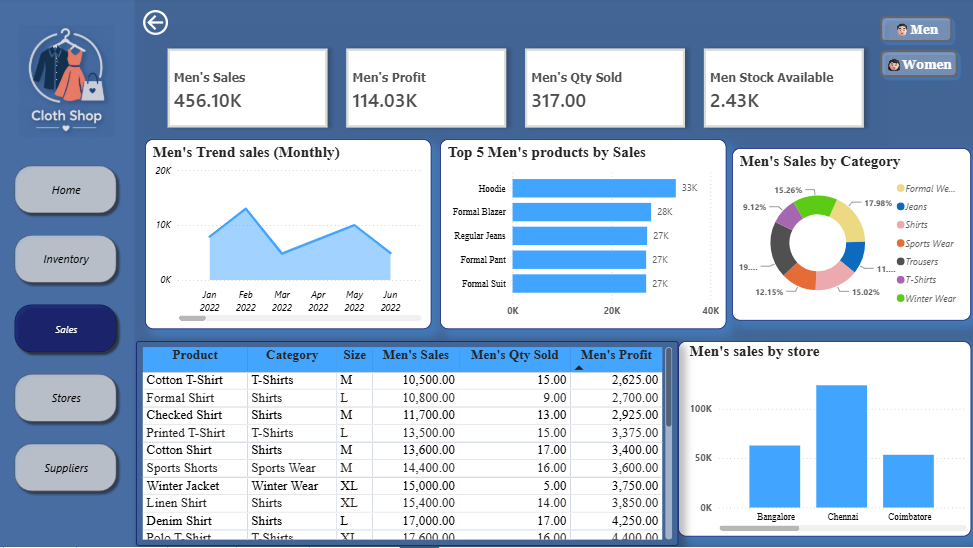

Layout of this report page (visuals, bound fields, positions):
{"tool":"powerbi","page":{"name":"Sales","canvas":[1280,720],"ordinal":2},"visuals":[{"type":"shape","box":[0,0,179.4,719.5],"z":0},{"type":"pageNavigator","title":"Page navigation","box":[14,213,148,443],"z":1000},{"type":"actionButton","title":"Women","box":[1149.1,64.8,112.3,46.1],"z":8000},{"type":"actionButton","title":"Men","box":[1149.1,20.2,105.1,44.6],"z":9000},{"type":"actionButton","box":[180,11.5,54.7,43.2],"z":11000},{"type":"cardVisual","fields":{"Data":["INVENTORY_SALES.Women's Sales","INVENTORY_SALES.Women's Profit","INVENTORY_SALES.Women's Qty Sold","INVENTORY_SALES.Women Stock Available"]},"box":[161.3,28.8,986.4,172.8],"z":19000},{"type":"lineChart","title":"Women''s Trend sales (Monthly)","fields":{"Category":["DATES.Month Year"],"Y":["INVENTORY_SALES.Women's Sales"]},"box":[192,184.6,375.1,250],"z":20000},{"type":"clusteredBarChart","title":"Top 5  Women''s products by Sales","fields":{"Category":["PRODUCTS.PRODUCT_NAME"],"Y":["INVENTORY_SALES.Women's Sales"]},"box":[579,186,375.1,248.6],"z":21000},{"type":"donutChart","title":"Women''s Sales by Category","fields":{"Category":["PRODUCTS.CATEGORY"],"Y":["INVENTORY_SALES.Women's Sales"]},"box":[961.5,196.5,312.6,226.2],"z":22000},{"type":"clusteredColumnChart","title":"Women''s sales by store","fields":{"Category":["STORES.CITY"],"Y":["INVENTORY_SALES.Women's Sales"]},"box":[892,456,384.7,257.1],"z":23000},{"type":"tableEx","fields":{"Values":["PRODUCTS.PRODUCT_NAME","PRODUCTS.CATEGORY","PRODUCTS.SIZE","INVENTORY_SALES.Women's Sales","INVENTORY_SALES.Women's Qty Sold","INVENTORY_SALES.Women's Profit"]},"box":[180,450,709,267],"z":24000},{"type":"image","box":[10.1,36,158.4,146.9],"z":25000}]}

Visuals, with their boxes in screenshot pixels (x1, y1, x2, y2), scaled from the page's 1280x720 canvas onto the 973x548 screenshot:
shape: crop(0, 0, 136, 547)
"Page navigation" pageNavigator: crop(11, 162, 123, 499)
"Women" actionButton: crop(873, 49, 959, 84)
"Men" actionButton: crop(873, 15, 953, 49)
actionButton: crop(137, 9, 178, 42)
cardVisual - INVENTORY_SALES.Women's Sales x INVENTORY_SALES.Women's Profit: crop(123, 22, 872, 153)
"Women''s Trend sales (Monthly)" lineChart: crop(146, 141, 431, 331)
"Top 5  Women''s products by Sales" clusteredBarChart: crop(440, 142, 725, 331)
"Women''s Sales by Category" donutChart: crop(731, 150, 969, 322)
"Women''s sales by store" clusteredColumnChart: crop(678, 347, 970, 543)
tableEx - PRODUCTS.PRODUCT_NAME x PRODUCTS.CATEGORY: crop(137, 342, 676, 546)
image: crop(8, 27, 128, 139)
